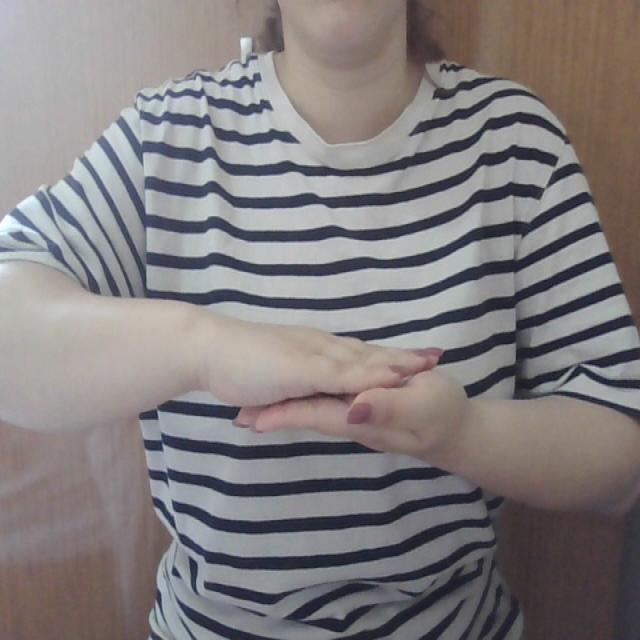Arkadas: (178, 298, 530, 470)
